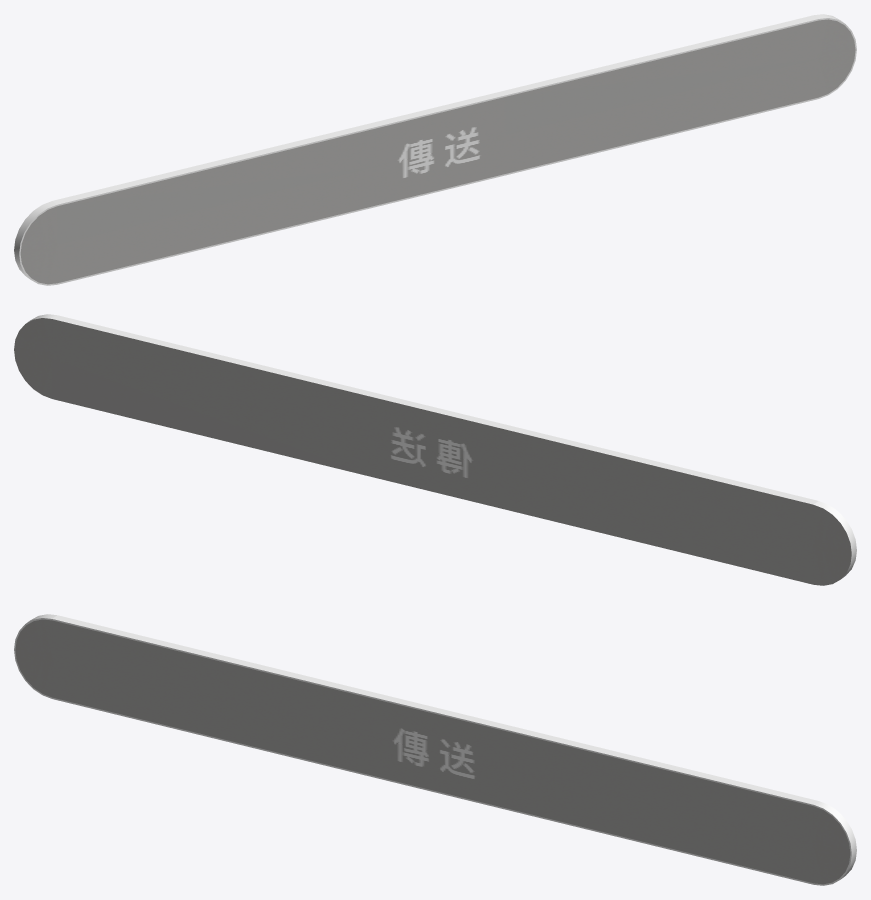
The picture shows the model from 3 angles, top to bottom: view 1: azimuth 30°, elevation 25°; view 2: azimuth 150°, elevation 25°; view 3: azimuth 330°, elevation 25°; orthographic projection.
Size of the model in its own units: 0.2152 by 0.0197 by 0.0023.
2 materials, 1 textured.
